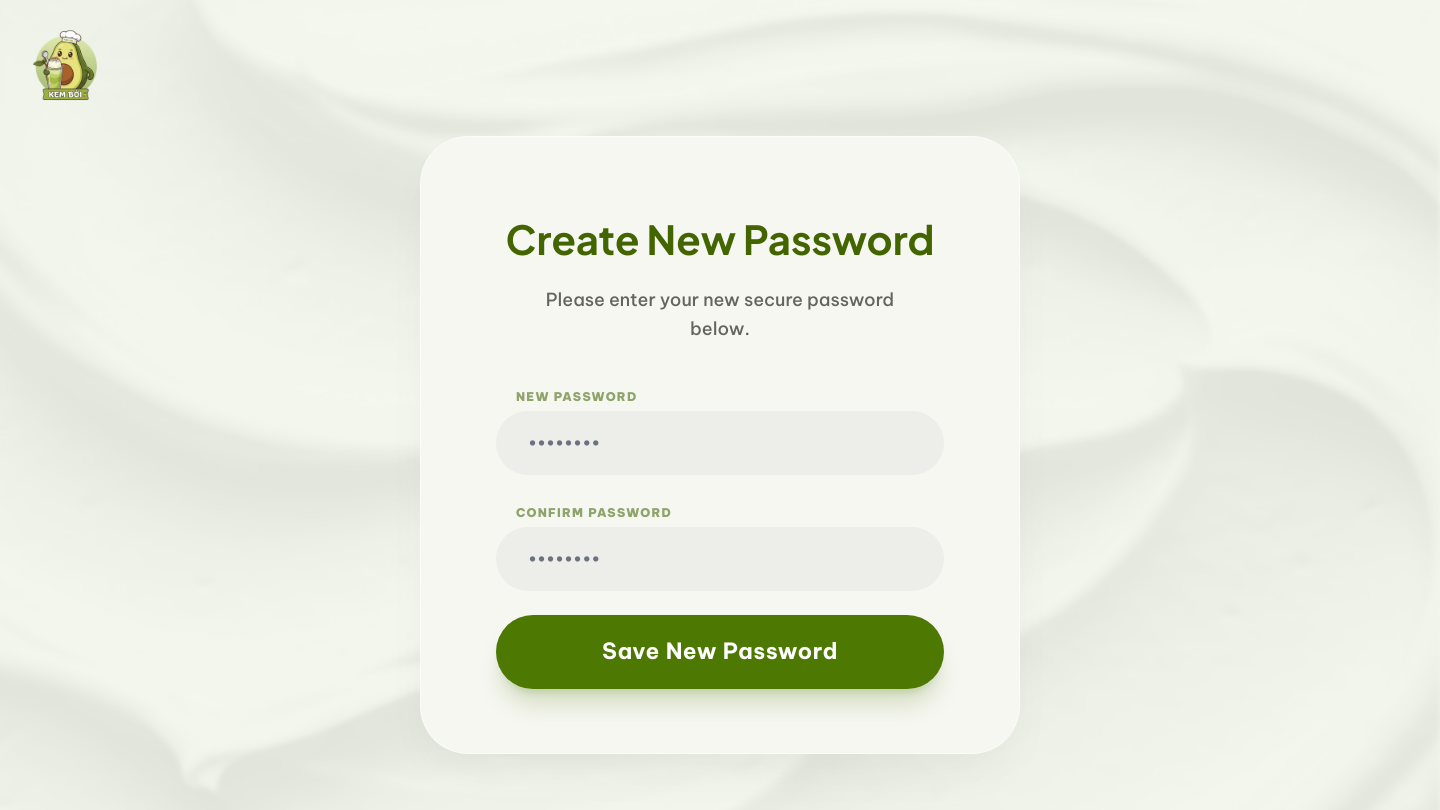
Test: ResetPassword Page › successfully resets password
The width and height of the screenshot is (1440, 810).
Type "password123" into the 1st password field with placeholder "••••••••" at (720, 443), box x1=496 y1=411 x2=944 y2=475
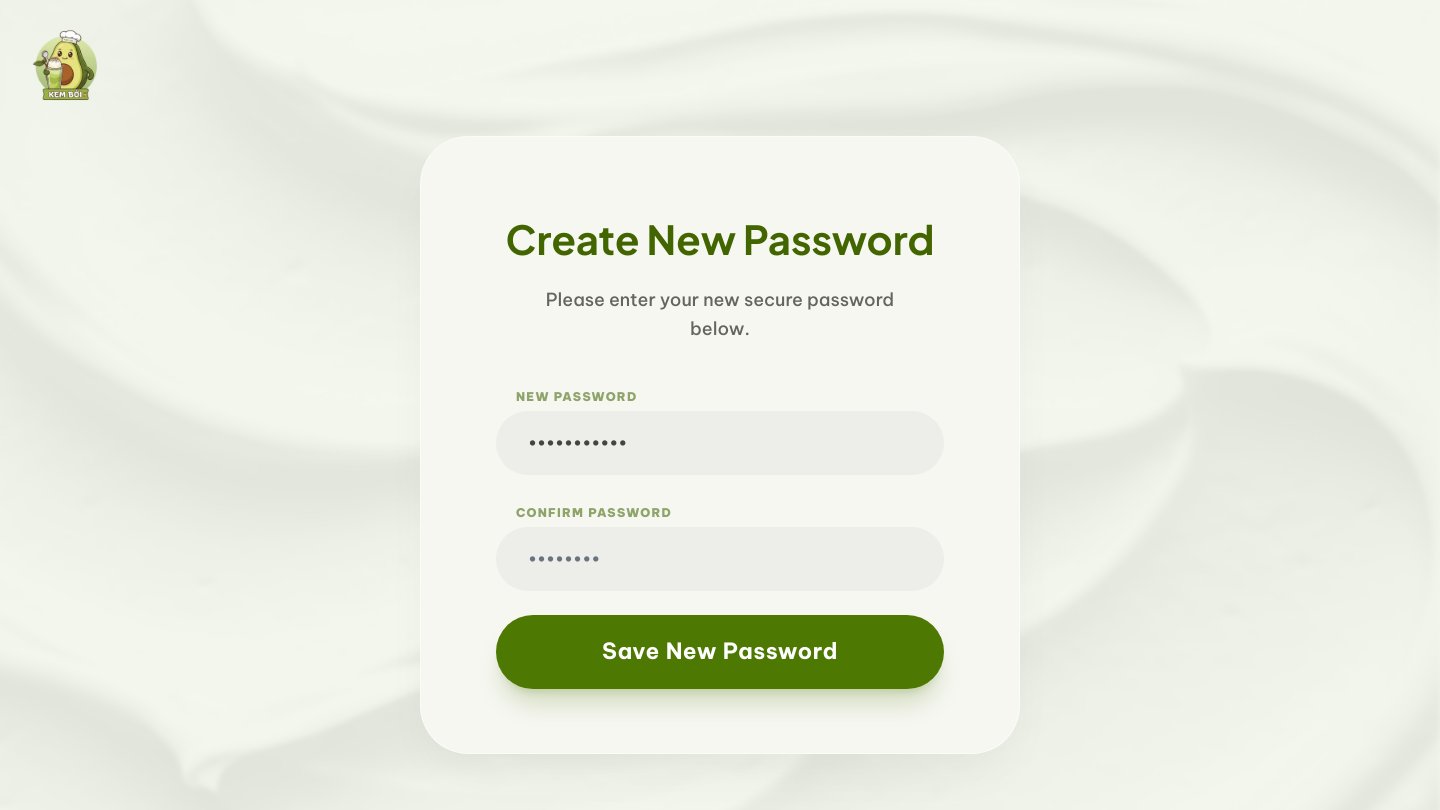
Type "password123" into the password field with placeholder "••••••••" at (720, 559), box x1=496 y1=527 x2=944 y2=591
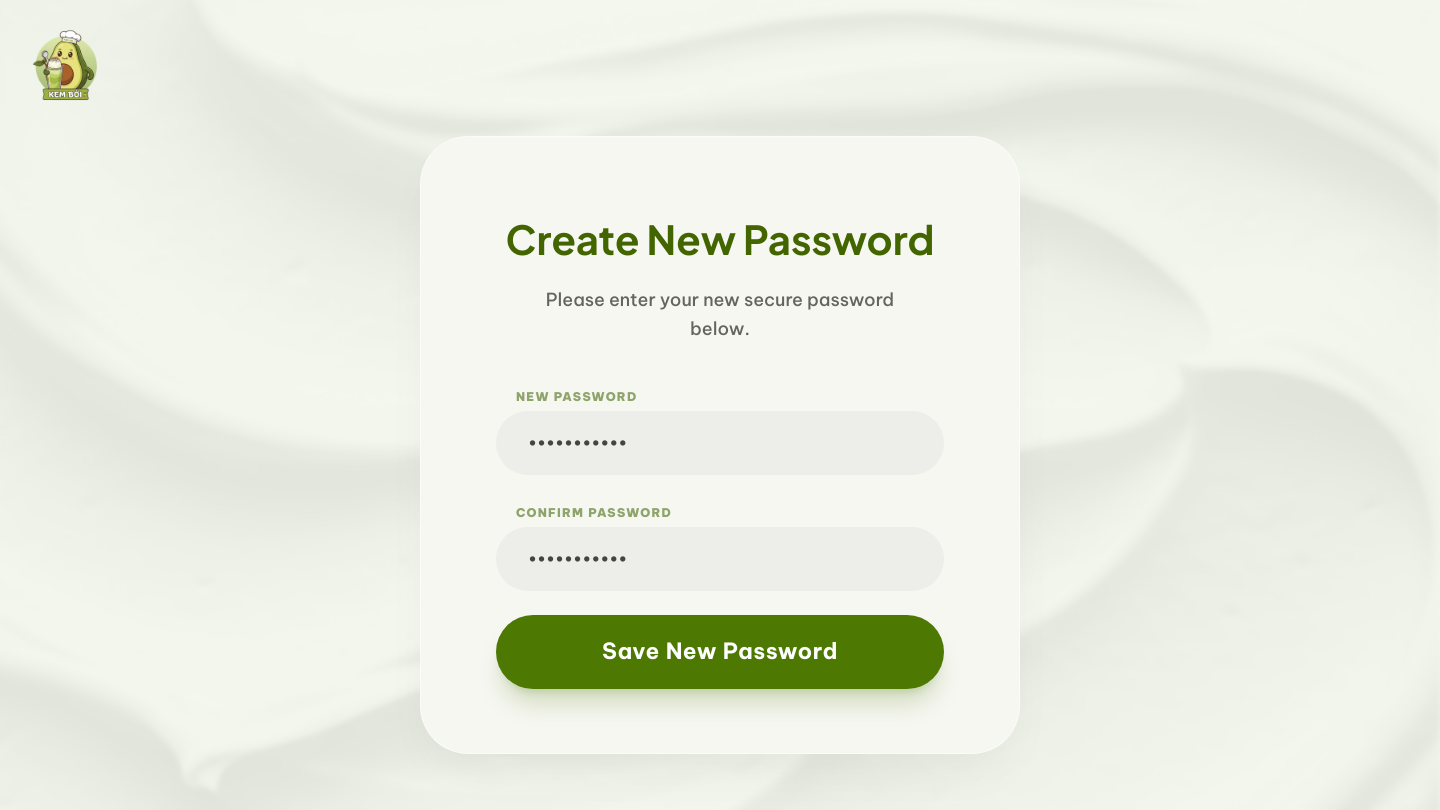
Submit the form "New Password Confirm Password Save New Password", box x1=496 y1=383 x2=944 y2=689
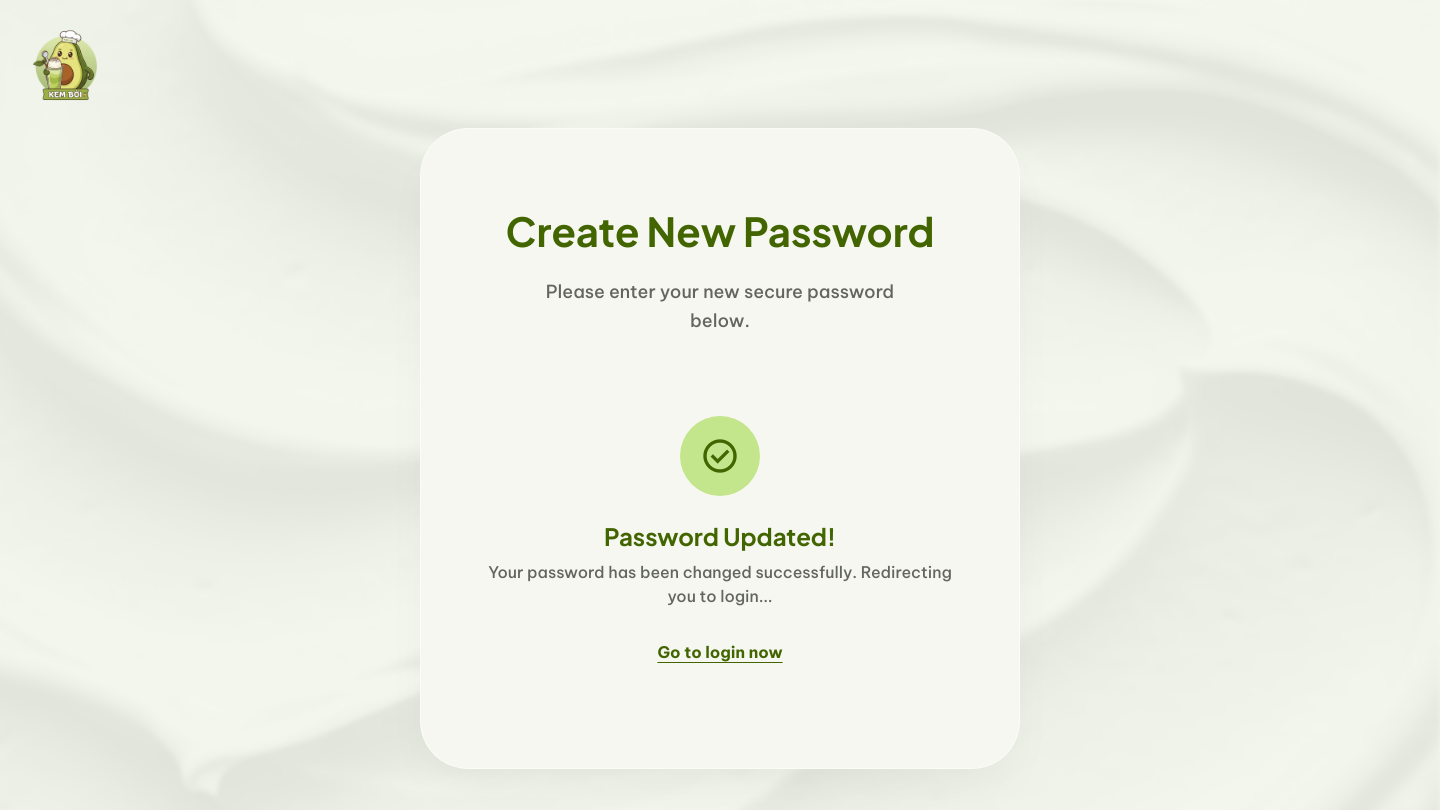
Result: the heading "Password Updated!" is shown at x1=604 y1=520 x2=836 y2=550
